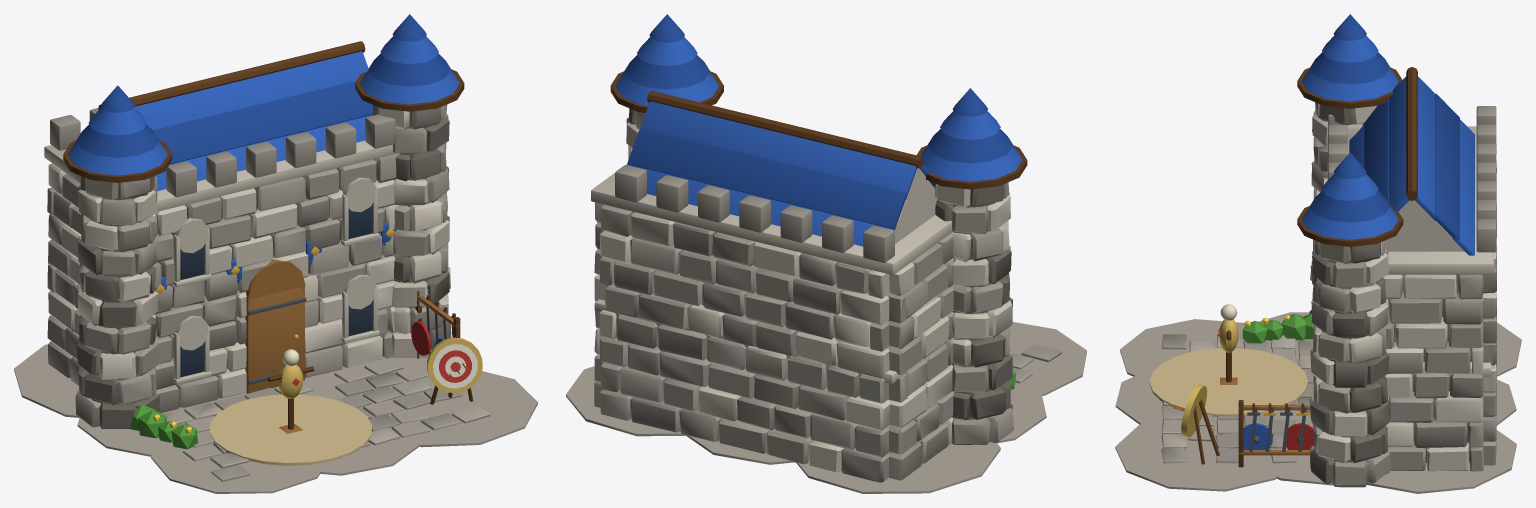
Rendered from koszary_poz16.glb.
3 views of the same model, side by side, from view 1: azimuth 30°, elevation 25°; view 2: azimuth 150°, elevation 25°; view 3: azimuth 270°, elevation 25° (orthographic). The views are drawn at different scales.
Parts seen in each view (by area): view 1: koszary_poz16; view 2: koszary_poz16; view 3: koszary_poz16.
Boxes of the visible parts, left/top/right/bottom form: koszary_poz16: left=14, top=14, right=537, bottom=493; koszary_poz16: left=566, top=14, right=1086, bottom=493; koszary_poz16: left=1115, top=14, right=1521, bottom=493.
Bounding box in the file's own units: 8.88 × 7.27 × 8.2.
